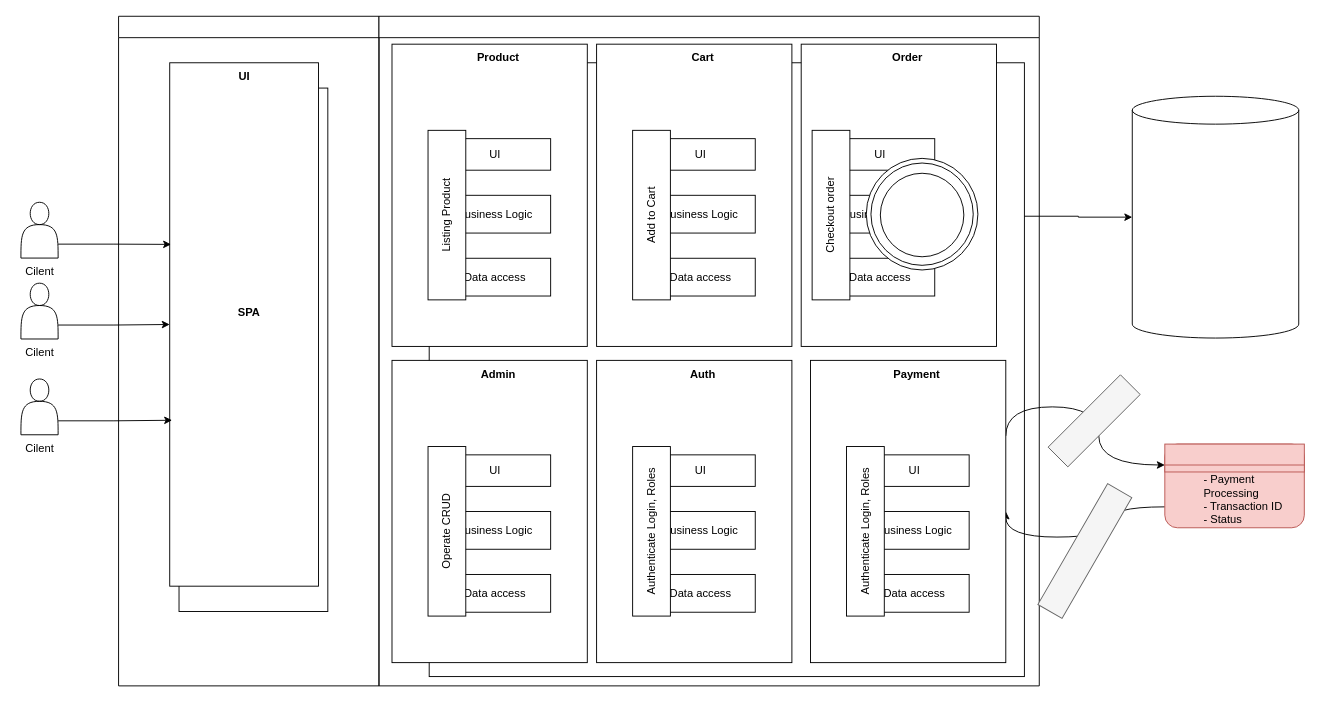
Image size: 1322x702. Some labels were removed from this diagram. The box of each missing label's shape, as (x1, y1, x2, y2) in pixels:
Backend (NodeJS + Express): (378, 15, 1039, 686)
Clean Architecture: (879, 172, 964, 257)
Database (MongoDB): (1131, 95, 1299, 338)
External Service (Stripe): (1164, 443, 1304, 472)
Fontend (Reacti JS): (118, 15, 379, 686)
Payment request: (1047, 374, 1140, 467)
Payment status respone: (1037, 483, 1132, 619)
